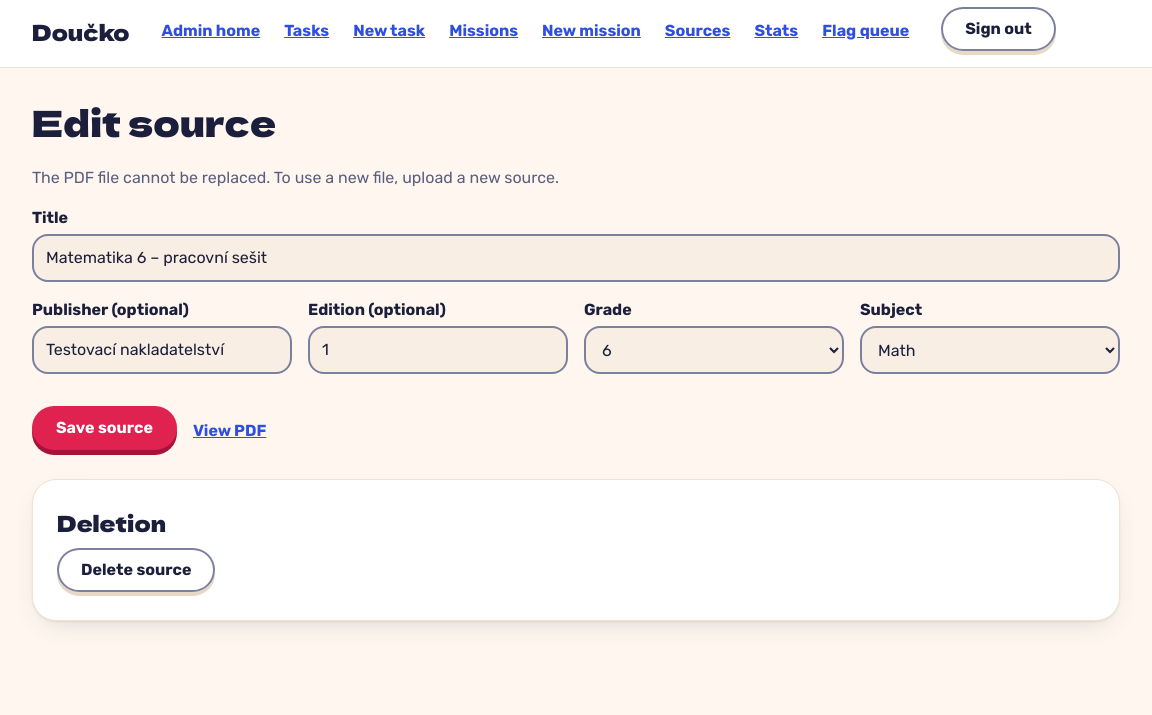
Test: source delete (FR-55, store rule FR-56) › a referenced source is refused with the reason and its tasks named (Source with tasks cannot be deleted)
Expected: the heading "Edit source" is shown, [32,95,276,147]
Expected: the field showing "Matematika 6 – pracovní sešit" is shown, [32,234,1120,282]
Click the button "Delete source" at (136, 570), box [57,548,215,592]
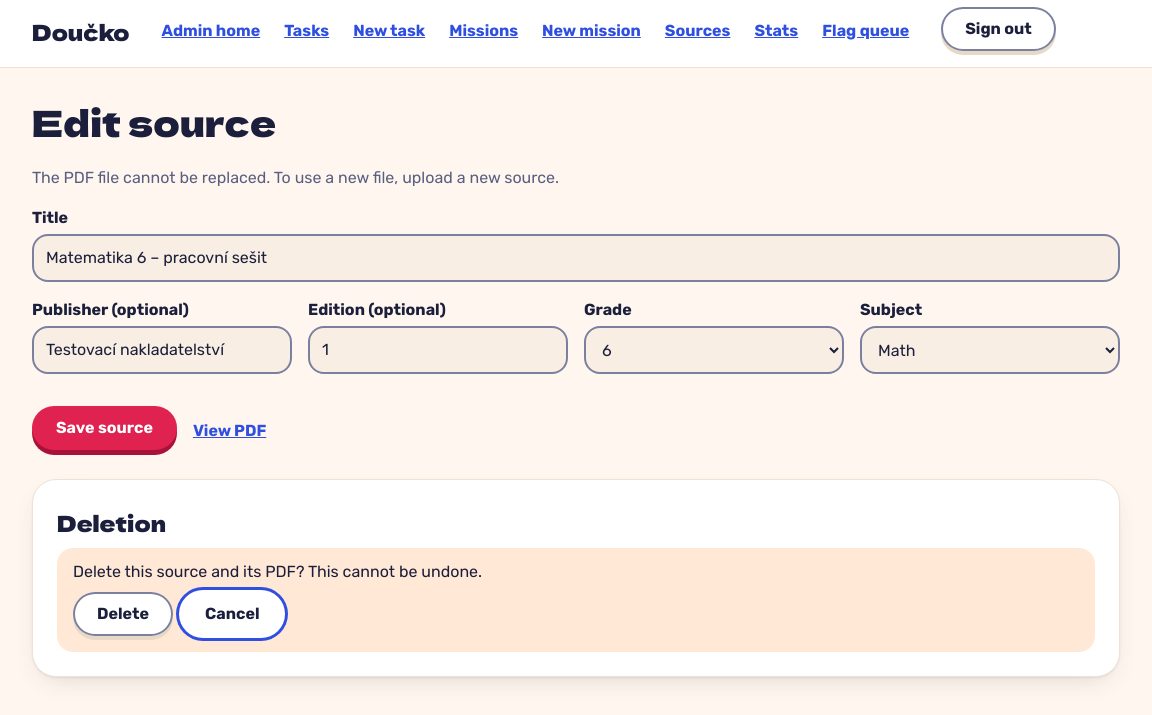
Now the text "Delete this source and its PDF? This cannot be undone." is shown, box [73,562,482,581]
Click the button "Delete" at (123, 614), box [73,592,173,636]
(page scrolled)
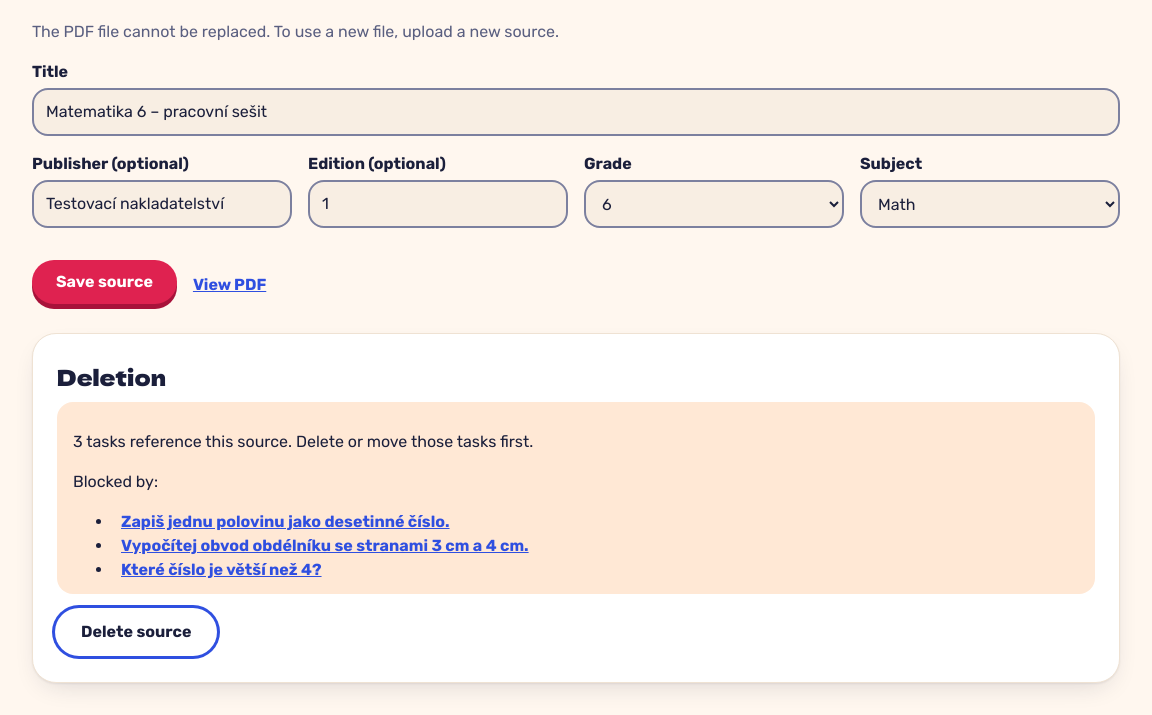
Now the message shows "3 tasks reference this source. Delete or move those tasks first.", box [73,432,533,451]
Now the link "Zapiš jednu polovinu jako desetinné číslo." is shown, box [113,508,458,535]
